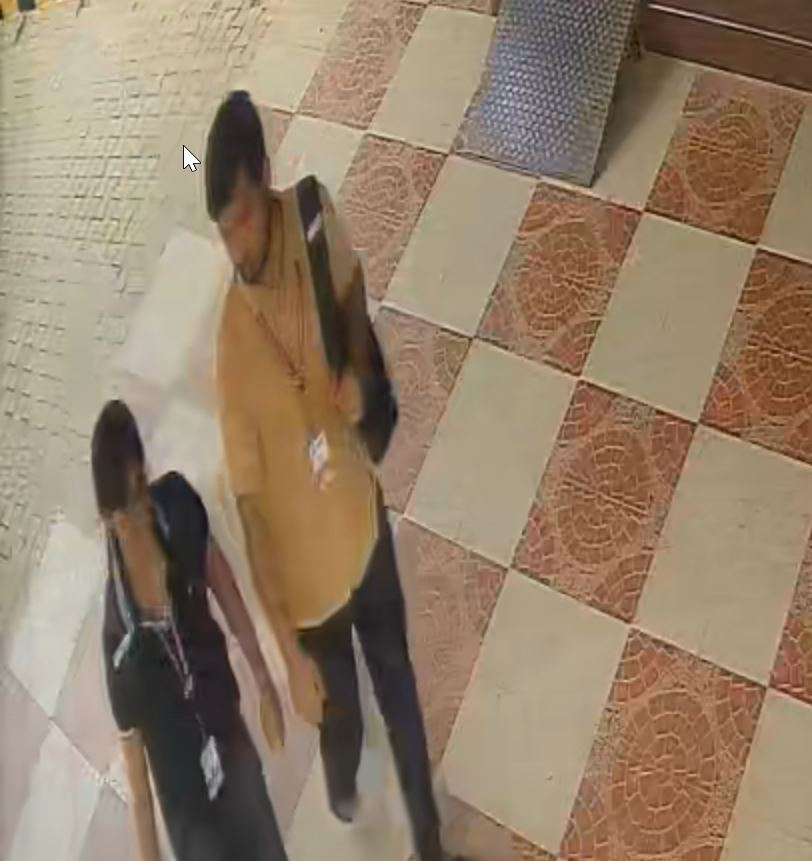intruder: (202, 99, 472, 861), (61, 387, 289, 861)
